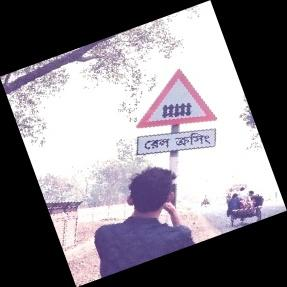Rail-crossing: (134, 67, 218, 155)
